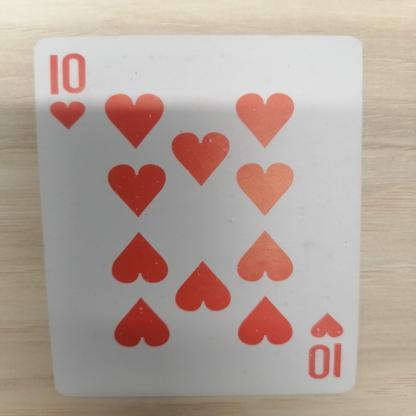10H: (35, 50, 100, 148), (297, 308, 354, 392)
